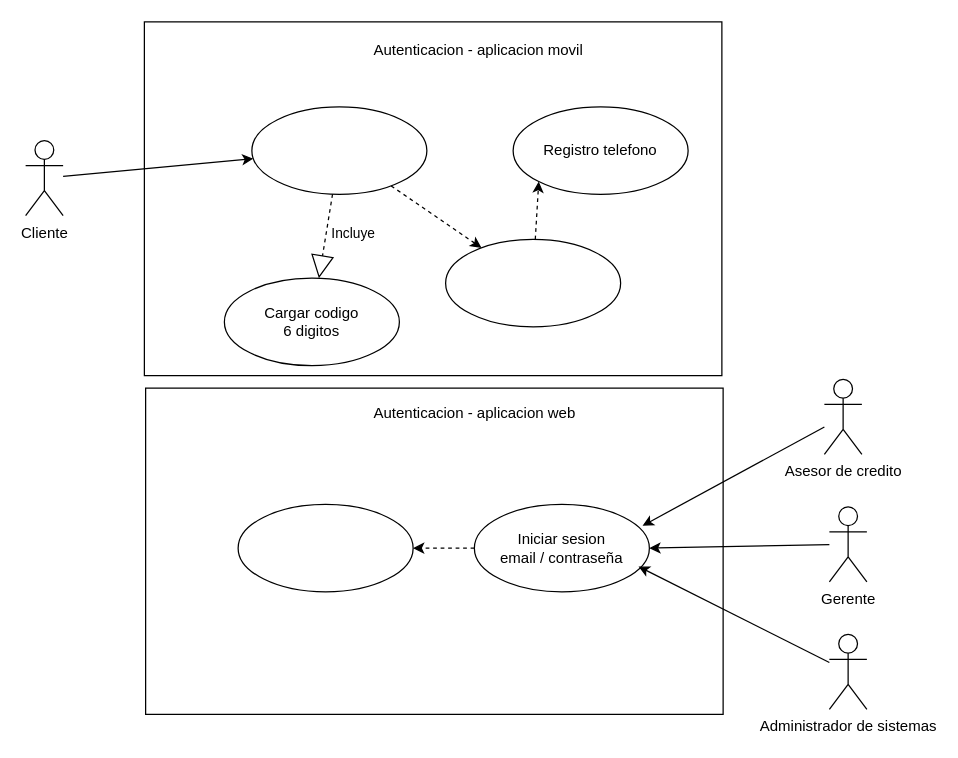
This 958x758 diagram has some shape labels left out. Here are the shapes that lost their labels. From the top down, the centre of each, then its label:
pixel 339 150: Iniciar sesion email
pixel 532 282: Registro de cuenta
pixel 325 547: Pagina de inicio por rol de usuario
